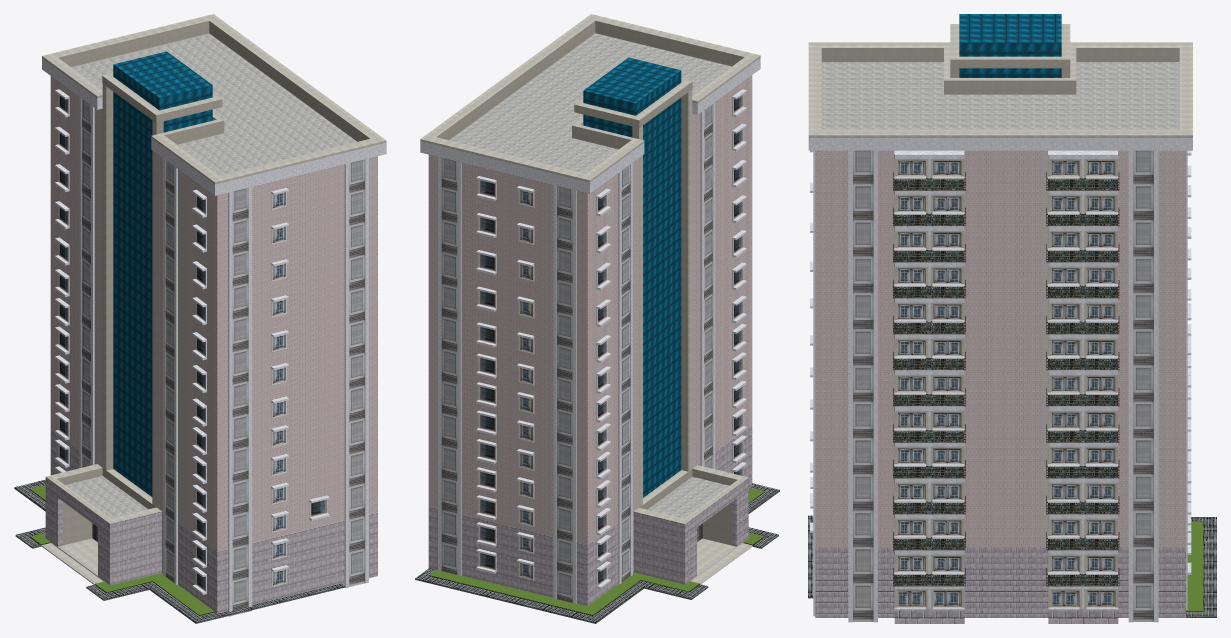
File: high_building_num7.obj
3 views of the same model, side by side, from view 1: azimuth 30°, elevation 25°; view 2: azimuth 150°, elevation 25°; view 3: azimuth 270°, elevation 25° (orthographic). The views are drawn at different scales.
Parts seen in each view (by area): view 1: high_building2; view 2: high_building2; view 3: high_building2.
Part boxes in pixels (left/top/right/bottom): high_building2: left=14, top=14, right=386, bottom=623; high_building2: left=415, top=14, right=779, bottom=623; high_building2: left=808, top=14, right=1216, bottom=623.
Bounding box in the file's own units: 255 × 471 × 333.
